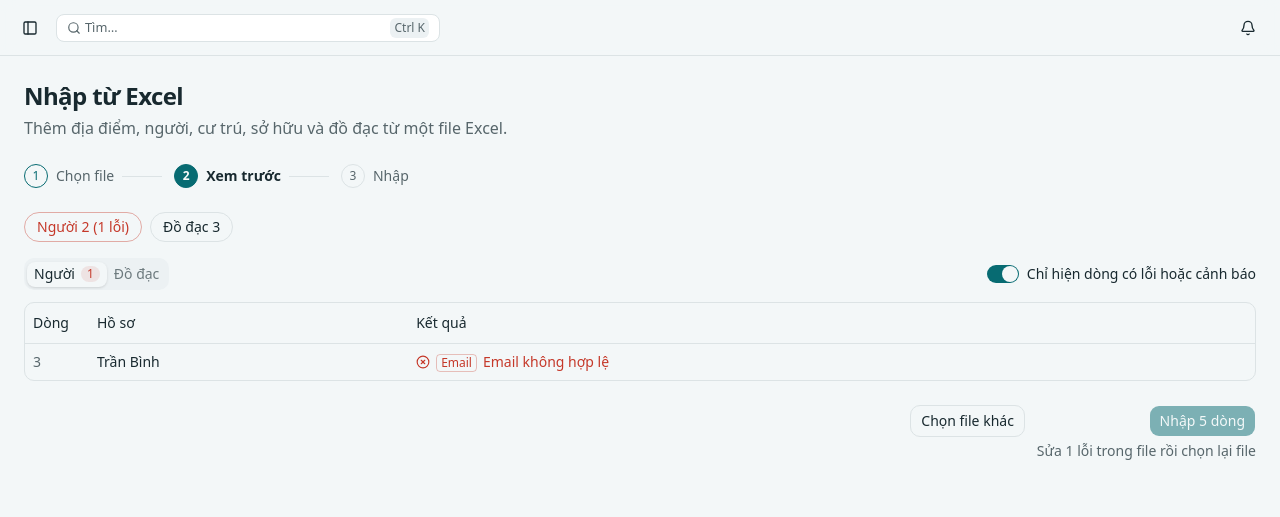
Test: summaryTabsAndRows
The image size is (1280, 517).
Earlier steps of the test are not shown.
Check: the list item "Người 2 (1 lỗi)" is shown, box [24,212,142,242]
Check: the list item "Đồ đạc 3" is shown, box [150,212,233,242]
Click the switch named "Chỉ hiện dòng có lỗi hoặc cảnh báo": x=1003, y=274 [987,265,1019,283]
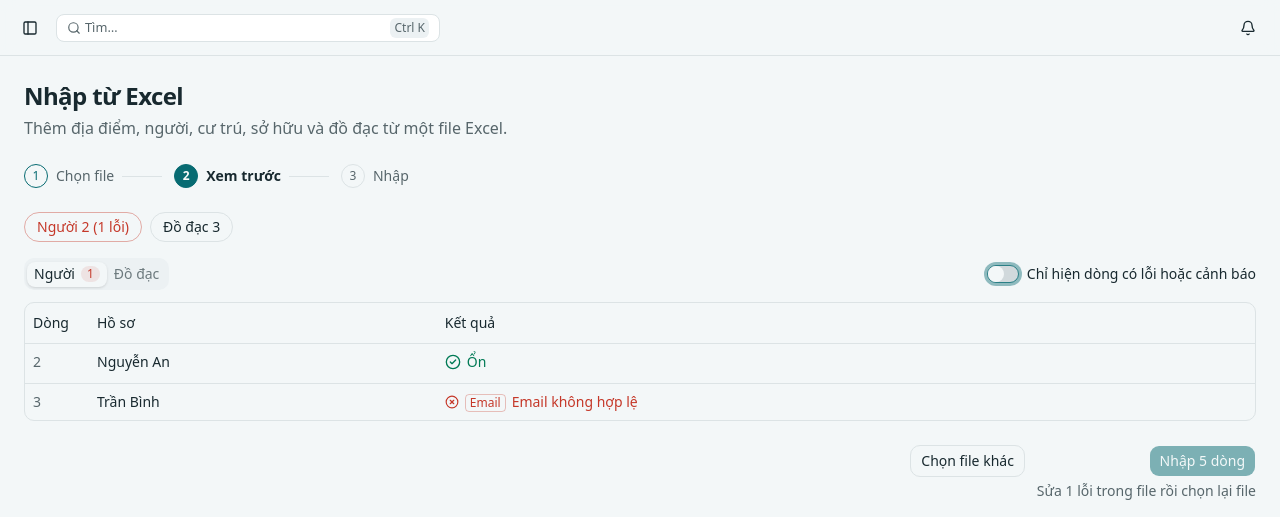
Check: the text "3" is shown, box [25,383,89,420]
Check: the text "Ổn" is shown, box [445,352,486,372]
